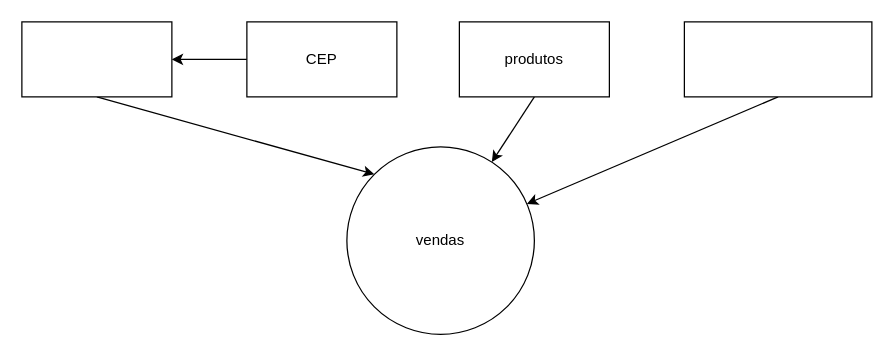
Some shapes in this 894 by 356 pixel diagram are drawn without their labels. The shapes that lost their labels are listed below. From the top down, each one's centre as x and y in pixels, then its label:
the point at 96,59: clientes
the point at 777,59: forma_pagtos
